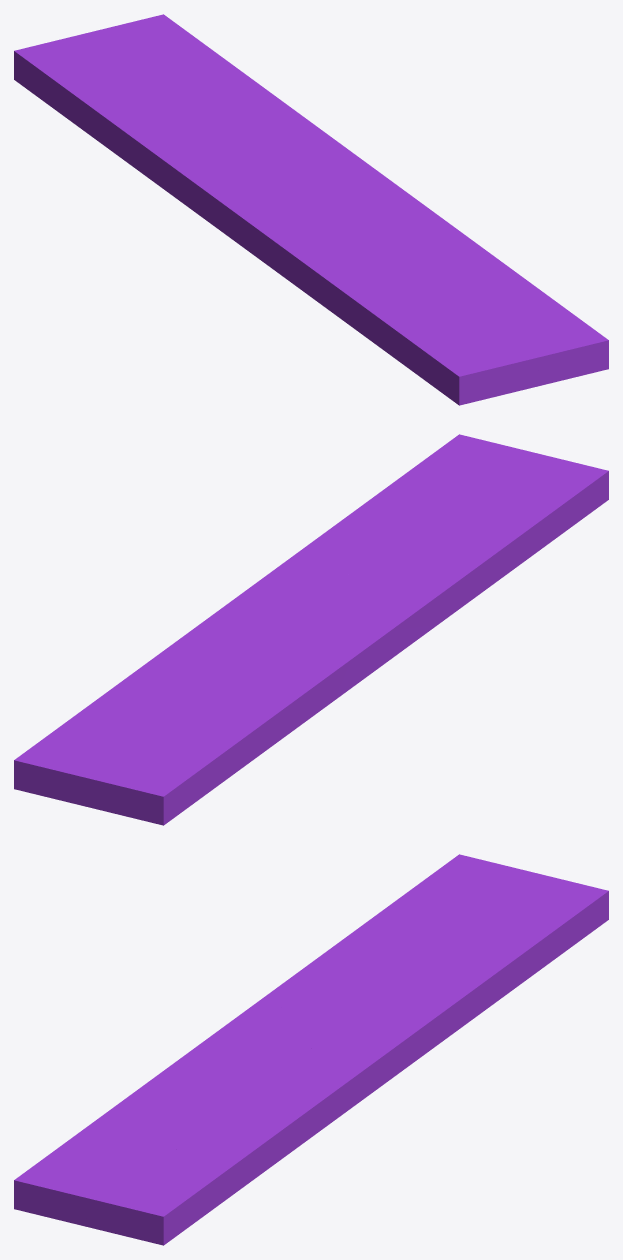
The model's file is StairsStep_86_chunks.fbx.
3 views of the same model, one above another, from view 1: azimuth 30°, elevation 25°; view 2: azimuth 150°, elevation 25°; view 3: azimuth 330°, elevation 25° (orthographic).
Visible parts, largest first — view 1: StairsStep_86_3, StairsStep_86_2, StairsStep_86_1, StairsStep_86_0; view 2: StairsStep_86_3, StairsStep_86_2, StairsStep_86_1, StairsStep_86_0; view 3: StairsStep_86_3, StairsStep_86_1, StairsStep_86_2, StairsStep_86_0.
Part boxes in pixels (x1=…): StairsStep_86_3: x1=14, y1=14, x2=371, y2=204; StairsStep_86_2: x1=240, y1=192, x2=550, y2=405; StairsStep_86_1: x1=325, y1=166, x2=608, y2=389; StairsStep_86_0: x1=185, y1=188, x2=287, y2=279; StairsStep_86_3: x1=14, y1=608, x2=351, y2=825; StairsStep_86_2: x1=299, y1=448, x2=608, y2=632; StairsStep_86_1: x1=222, y1=434, x2=517, y2=612; StairsStep_86_0: x1=335, y1=624, x2=437, y2=699; StairsStep_86_3: x1=271, y1=854, x2=608, y2=1066; StairsStep_86_1: x1=80, y1=1039, x2=407, y2=1245; StairsStep_86_2: x1=14, y1=1018, x2=323, y2=1224; StairsStep_86_0: x1=234, y1=992, x2=287, y2=1019.
Size of the model in its own units: 157 by 28.98 by 810.
